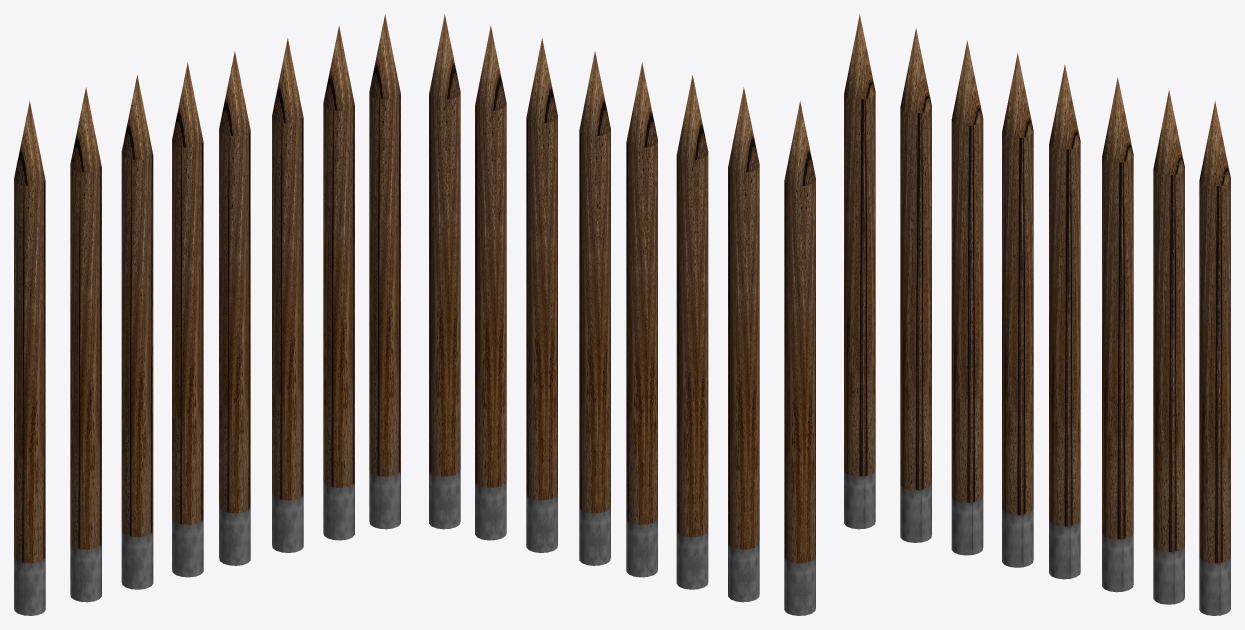
Rendered from door.glb.
3 views of the same model, side by side, from view 1: azimuth 30°, elevation 25°; view 2: azimuth 150°, elevation 25°; view 3: azimuth 330°, elevation 25° (orthographic).
Visible parts, largest first — view 1: door; view 2: door; view 3: door.
Part boxes in pixels (<box>): door: <box>14,14,400,615</box>; door: <box>429,14,815,615</box>; door: <box>844,14,1230,615</box>.
Size of the model in its own units: 2.7 by 3.44 by 0.1994.
1 material, 1 textured.
